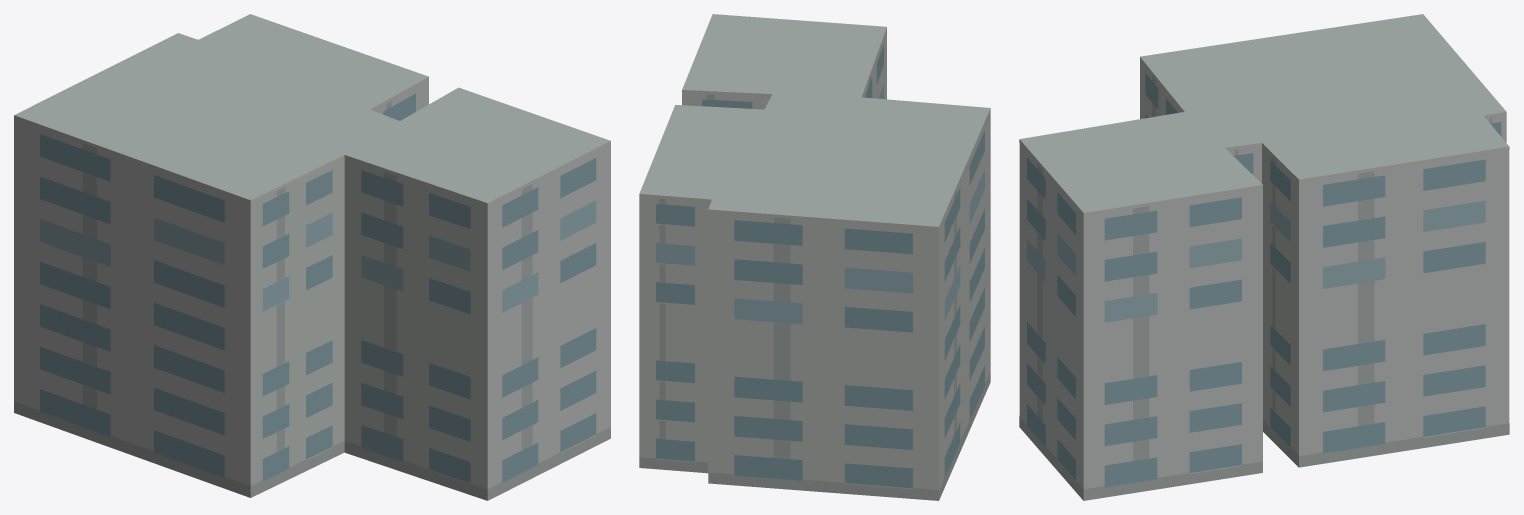
Rendered from survey-upis-32863114.glb.
The picture shows the model from 3 angles, left to right: view 1: azimuth 30°, elevation 25°; view 2: azimuth 150°, elevation 25°; view 3: azimuth 270°, elevation 25°; orthographic projection. The views are drawn at different scales.
Parts seen in each view (by area): view 1: survey-upis-32863114.tmp; view 2: survey-upis-32863114.tmp; view 3: survey-upis-32863114.tmp.
Boxes of the visible parts, bbox=[...] form: survey-upis-32863114.tmp: bbox=[14, 14, 610, 500]; survey-upis-32863114.tmp: bbox=[639, 14, 990, 500]; survey-upis-32863114.tmp: bbox=[1019, 14, 1509, 500].
Size of the model in its own units: 31.26 by 21.1 by 32.54.
